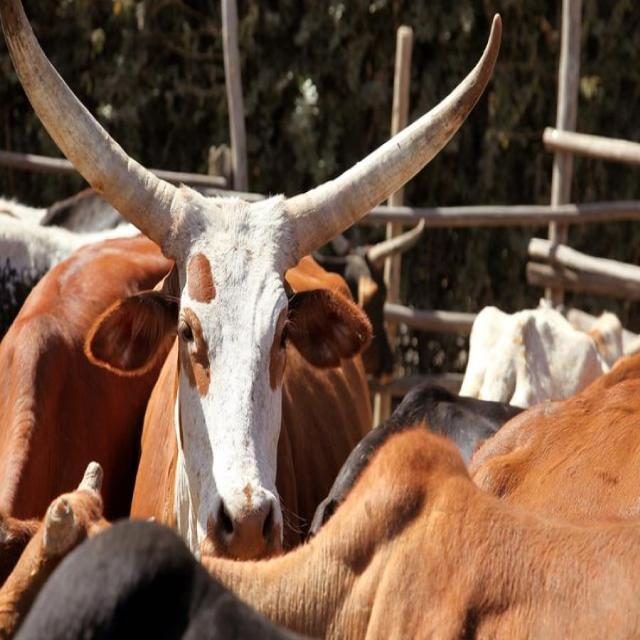Ox: (6, 10, 509, 529)
